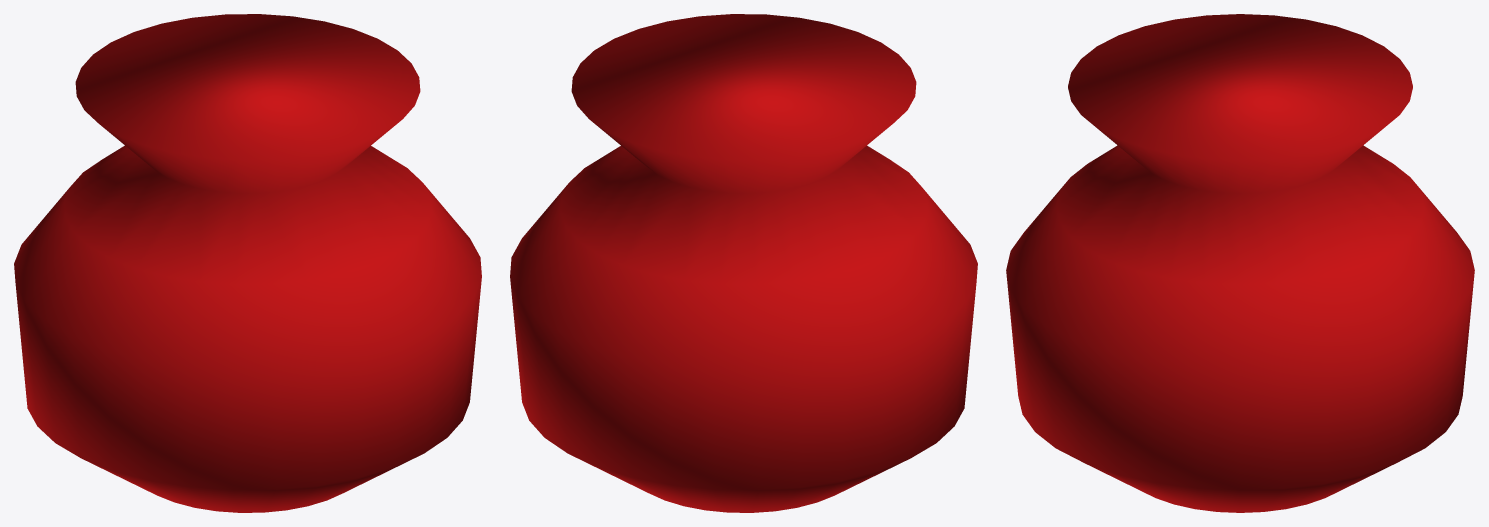
The model's file is pitcher.dae.
3 renders of one model, left to right at view 1: azimuth 30°, elevation 25°; view 2: azimuth 150°, elevation 25°; view 3: azimuth 270°, elevation 25°, orthographic.
Visible parts, largest first — view 1: Cylinder_001; view 2: Cylinder_001; view 3: Cylinder_001.
Boxes of the visible parts, <box> form: Cylinder_001: <box>14,14,481,512</box>; Cylinder_001: <box>510,14,977,512</box>; Cylinder_001: <box>1006,14,1474,512</box>.
Size of the model in its own units: 2.91 by 2.91 by 2.57.
